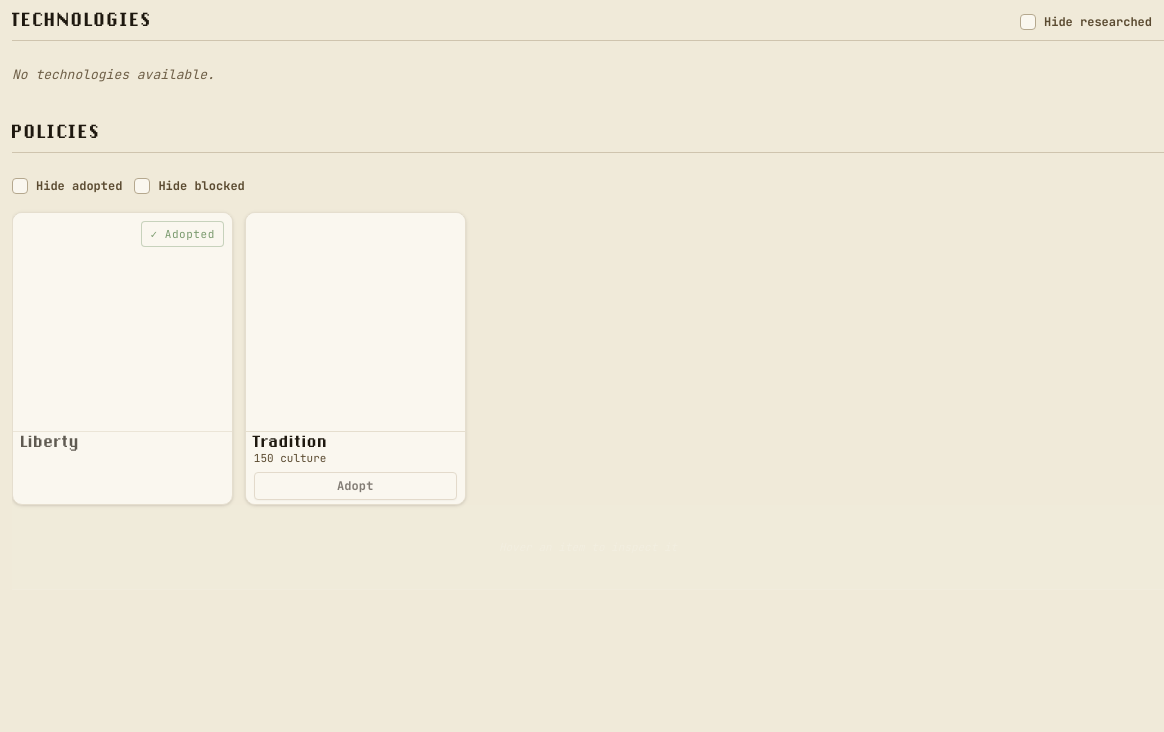
Test: Story 51-01: Policy panel › hide-researched toggle filters adopted policies
Expected: the list item with test id "policy-liberty" is shown, [12,212,233,505]
Click the checkbox with test id "policy-hide-researched": (20,186) [12,178,28,194]
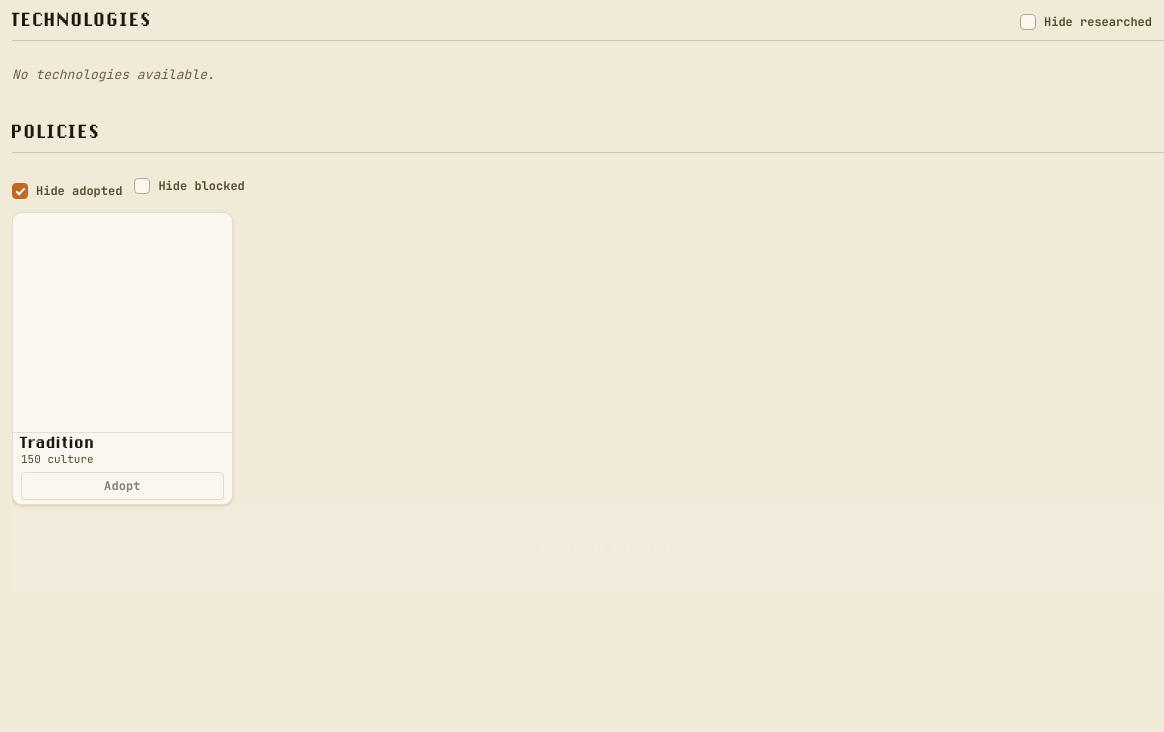
Expected: the list item with test id "policy-tradition" is shown, [12,212,233,505]
Expected: the list item with test id "policy-liberty" is gone
